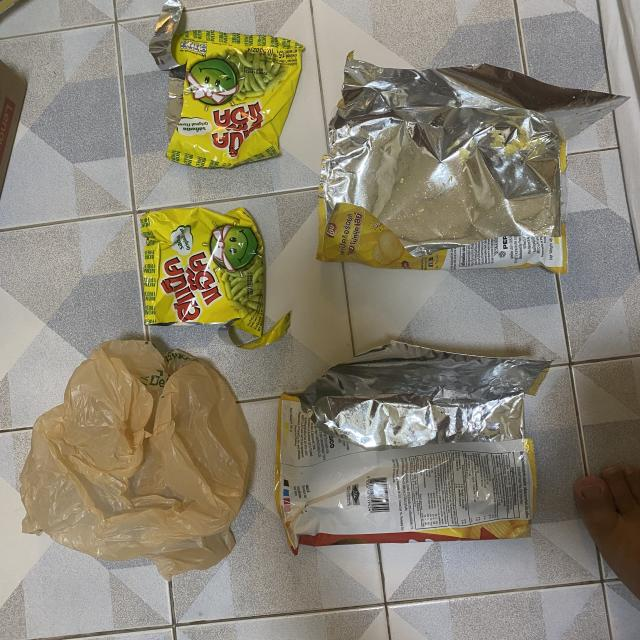Single-layer Plastic: (20, 340, 250, 579)
